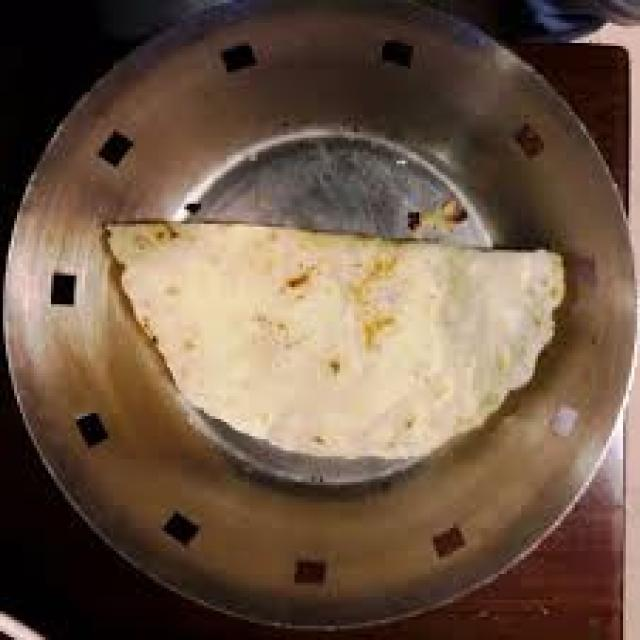ROTI: (105, 218, 549, 451)
